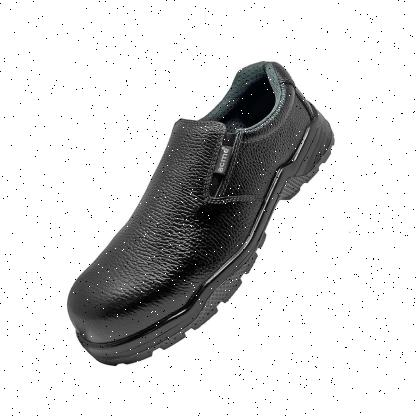bota: (64, 57, 338, 371)
